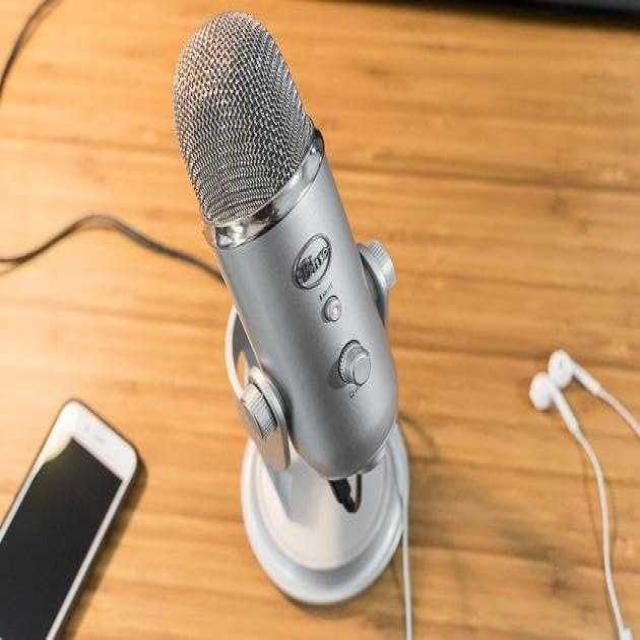microphone: (166, 12, 396, 488)
